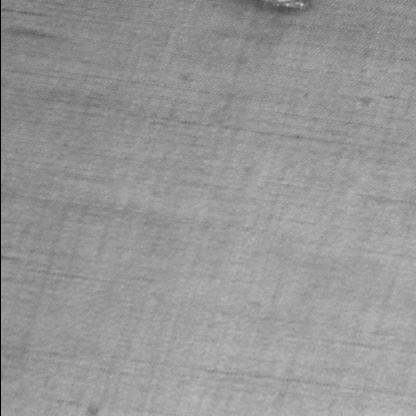hole: (253, 0, 313, 14)
